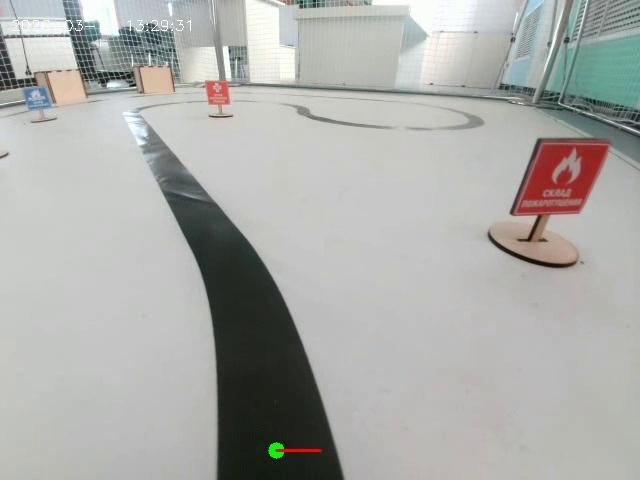fire: (494, 108, 607, 269)
flood: (14, 71, 60, 132)
medical: (188, 68, 240, 144)
